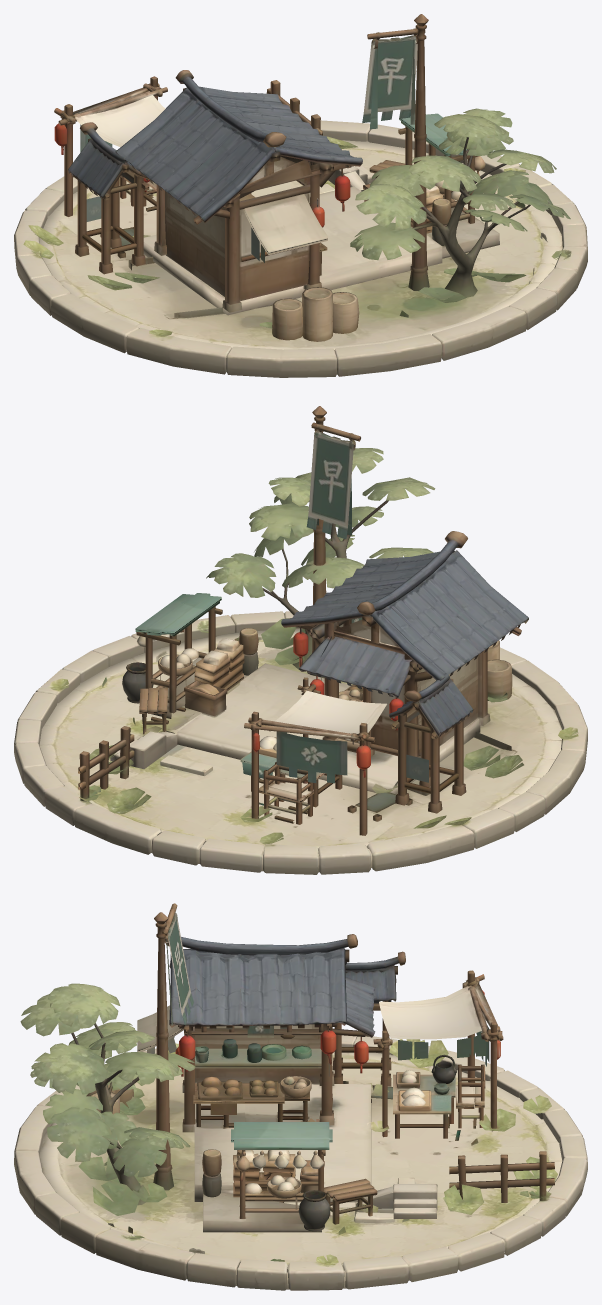
Rendered from zao.glb.
3 renders of one model, top to bottom at view 1: azimuth 30°, elevation 25°; view 2: azimuth 150°, elevation 25°; view 3: azimuth 270°, elevation 25°, orthographic.
Parts seen in each view (by area): view 1: 836f8a55-d21a-4a4e-a83c-0b4b34aa3590, 823a0f09-333b-4e90-9d06-1bc12d007500; view 2: 836f8a55-d21a-4a4e-a83c-0b4b34aa3590, 823a0f09-333b-4e90-9d06-1bc12d007500; view 3: 836f8a55-d21a-4a4e-a83c-0b4b34aa3590, 823a0f09-333b-4e90-9d06-1bc12d007500.
Boxes of the visible parts, left/top/right/bottom form: 836f8a55-d21a-4a4e-a83c-0b4b34aa3590: left=14, top=14, right=587, bottom=377; 823a0f09-333b-4e90-9d06-1bc12d007500: left=39, top=140, right=562, bottom=374; 836f8a55-d21a-4a4e-a83c-0b4b34aa3590: left=14, top=406, right=587, bottom=874; 823a0f09-333b-4e90-9d06-1bc12d007500: left=39, top=629, right=561, bottom=871; 836f8a55-d21a-4a4e-a83c-0b4b34aa3590: left=14, top=903, right=587, bottom=1290; 823a0f09-333b-4e90-9d06-1bc12d007500: left=39, top=1052, right=562, bottom=1289.
Bounding box in the file's own units: 0.9985 × 0.5562 × 0.9995.
Materials: 2 (2 with a texture image).
